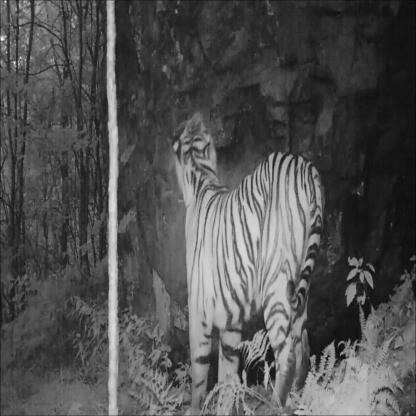Tiger: (172, 108, 324, 416)
